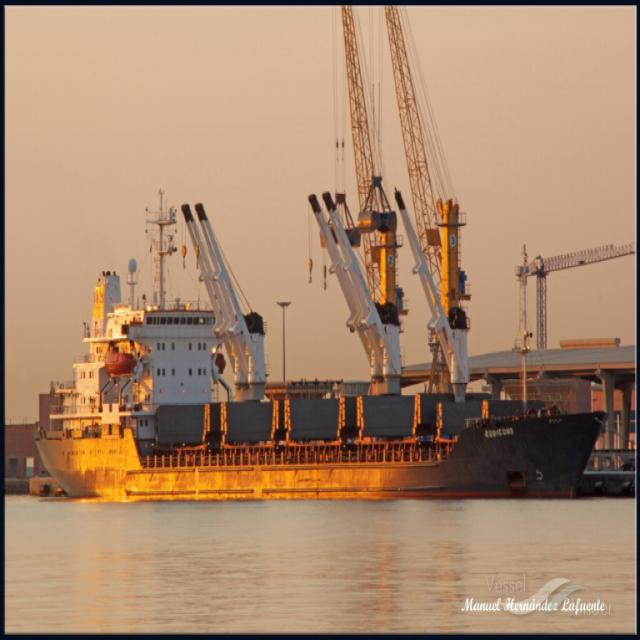OCR: (483, 426, 517, 440)
